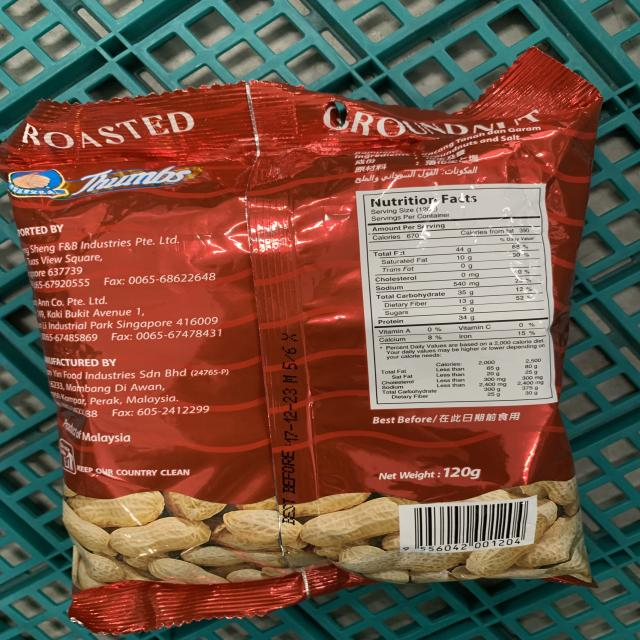object_name: (24, 110, 589, 593)
